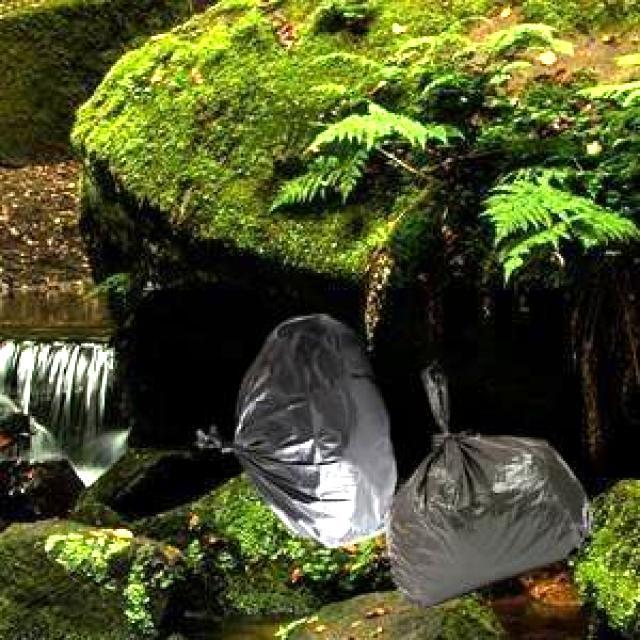Garbage_Bag: (383, 359, 590, 607), (194, 310, 394, 545)
